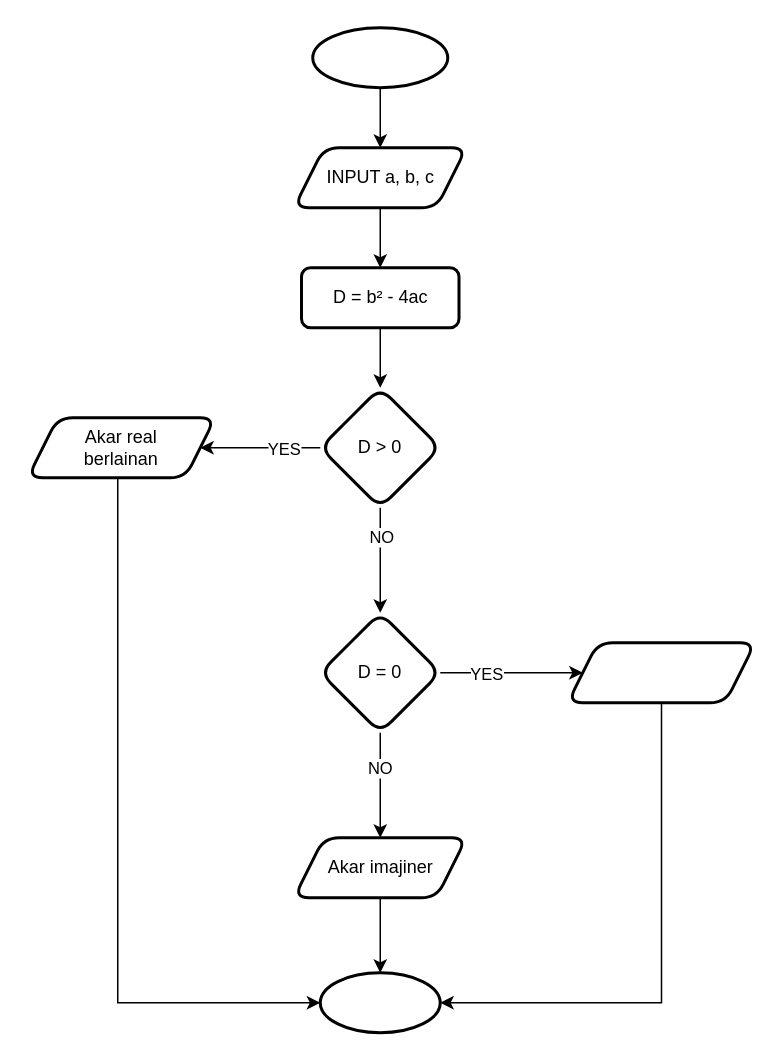
Image size: 782x1059. Some labels were removed from this diagram. The shapes that lost their labels are listed below. From the top down, each one's box as (x1, y1, x2, y2) in pixels, then its label:
(310, 26, 448, 88): START
(566, 640, 756, 704): Akar real kembar
(318, 970, 441, 1034): END
